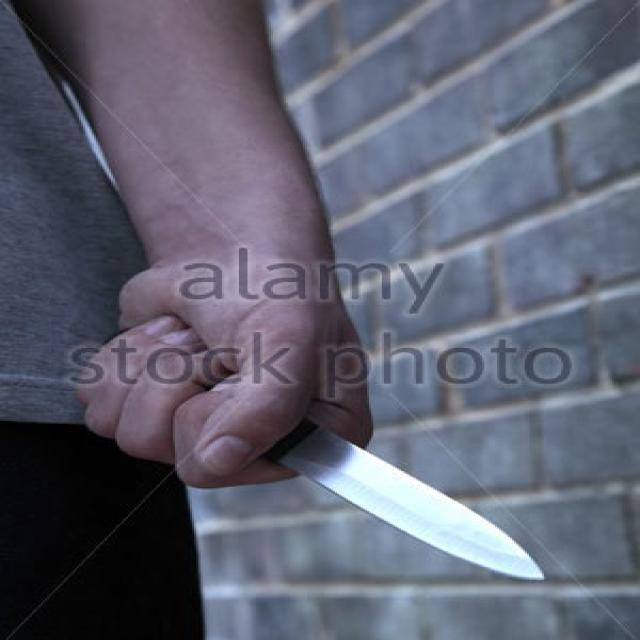knife: (274, 418, 569, 598)
